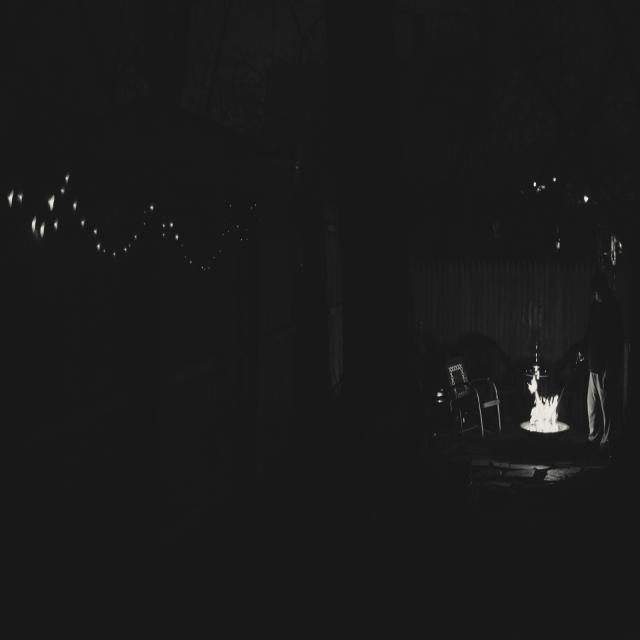People: (583, 268, 628, 464)
chair: (439, 330, 495, 455)
